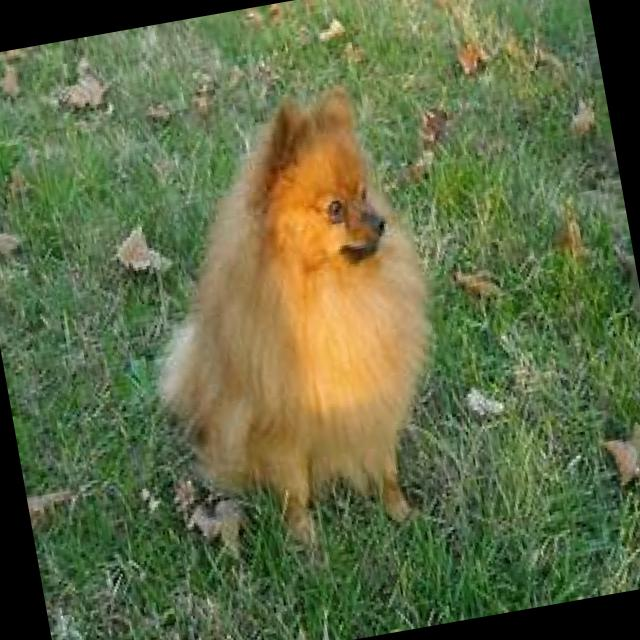animal: (107, 72, 471, 576)
